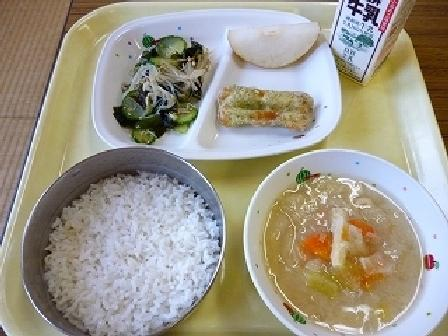Apple: (228, 17, 319, 70)
Milk: (328, 0, 417, 75)
Rice: (22, 155, 225, 333)
Salad: (115, 35, 211, 136)
Soups: (237, 156, 447, 335)
pastry: (216, 75, 318, 140)
